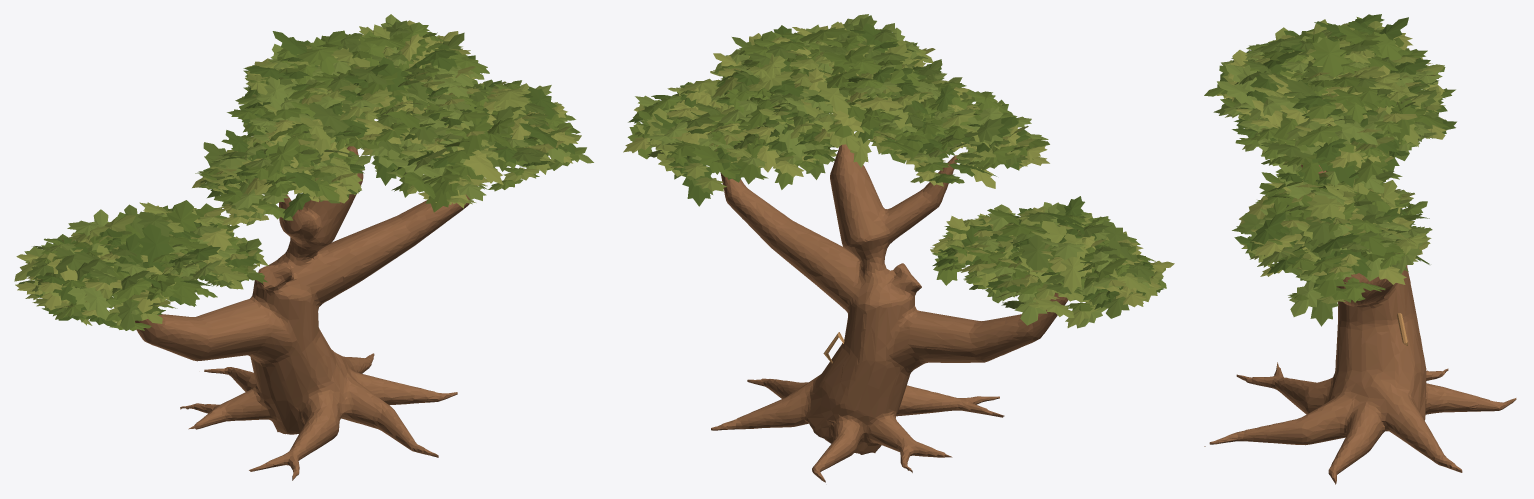
File: lowfork.glb
The picture shows the model from 3 angles, left to right: view 1: azimuth 30°, elevation 25°; view 2: azimuth 150°, elevation 25°; view 3: azimuth 270°, elevation 25°; orthographic projection. The views are drawn at different scales.
Visible parts, largest first — view 1: scalloped oak leaves, muscular fused oak; view 2: scalloped oak leaves, muscular fused oak; view 3: scalloped oak leaves, muscular fused oak.
Boxes of the visible parts, x1,y1,x2,y2 form: scalloped oak leaves: [14, 14, 593, 330]; muscular fused oak: [135, 146, 477, 480]; scalloped oak leaves: [623, 14, 1174, 328]; muscular fused oak: [711, 144, 1068, 482]; scalloped oak leaves: [1204, 14, 1456, 326]; muscular fused oak: [1204, 125, 1516, 484].
Size of the model in its own units: 11.31 by 7.81 by 5.38.
